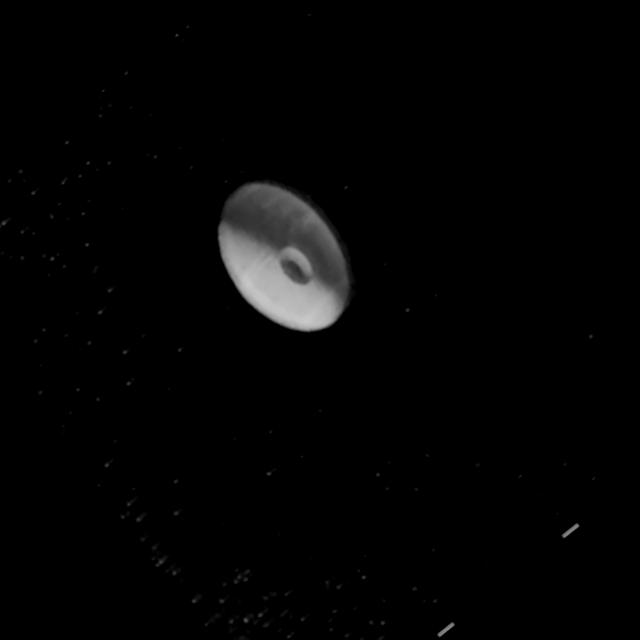death-stars: (218, 178, 352, 328)
